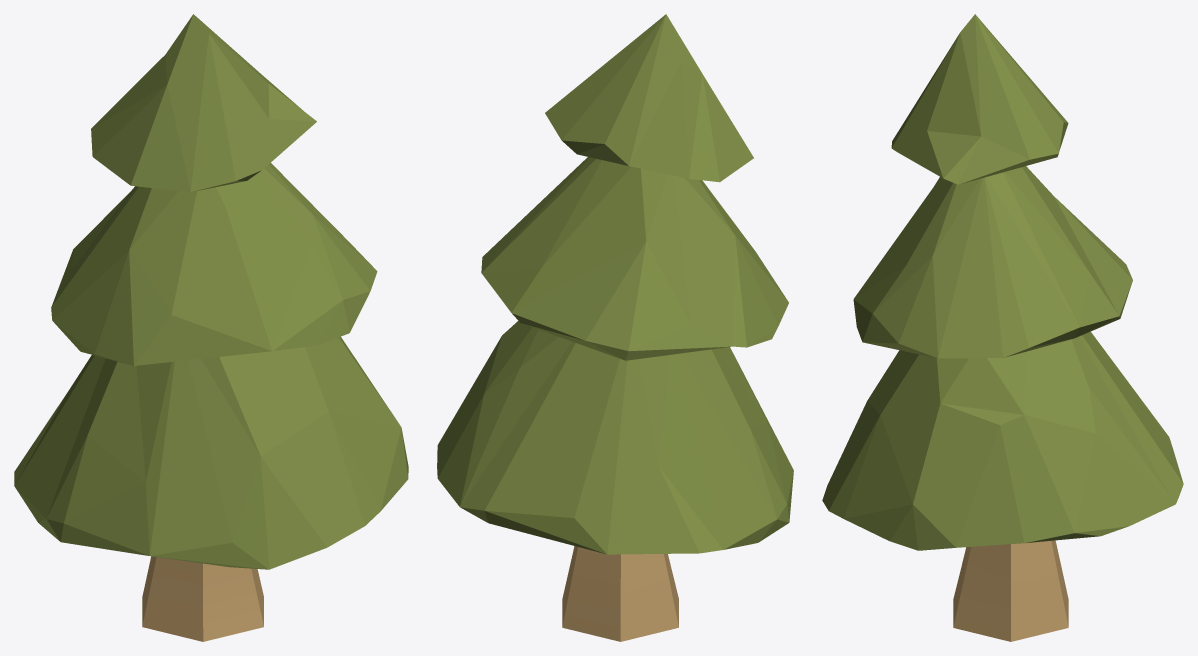
Rendered from yellow pine.fbx.
3 views of the same model, side by side, from view 1: azimuth 30°, elevation 25°; view 2: azimuth 150°, elevation 25°; view 3: azimuth 270°, elevation 25° (orthographic). The views are drawn at different scales.
Visible parts, largest first — view 1: pasted__pCylinder5, pasted__pCylinder2; view 2: pasted__pCylinder5, pasted__pCylinder2; view 3: pasted__pCylinder5, pasted__pCylinder2.
Part boxes in pixels (x1,y1,x2,y2): pasted__pCylinder5: (14,14,408,569); pasted__pCylinder2: (142,556,263,641); pasted__pCylinder5: (437,14,793,554); pasted__pCylinder2: (562,546,678,641); pasted__pCylinder5: (822,14,1183,550); pasted__pCylinder2: (953,540,1068,641).
Bounding box in the file's own units: 1.66 × 2.98 × 1.66.
